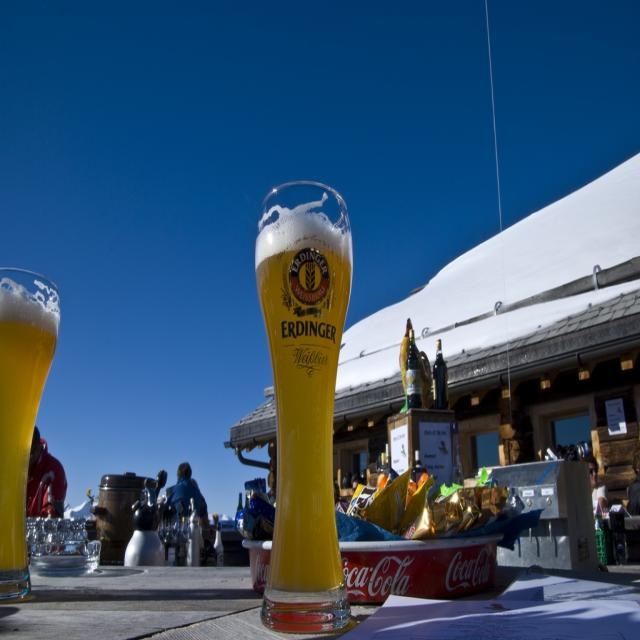erdinger: (276, 233, 341, 350)
